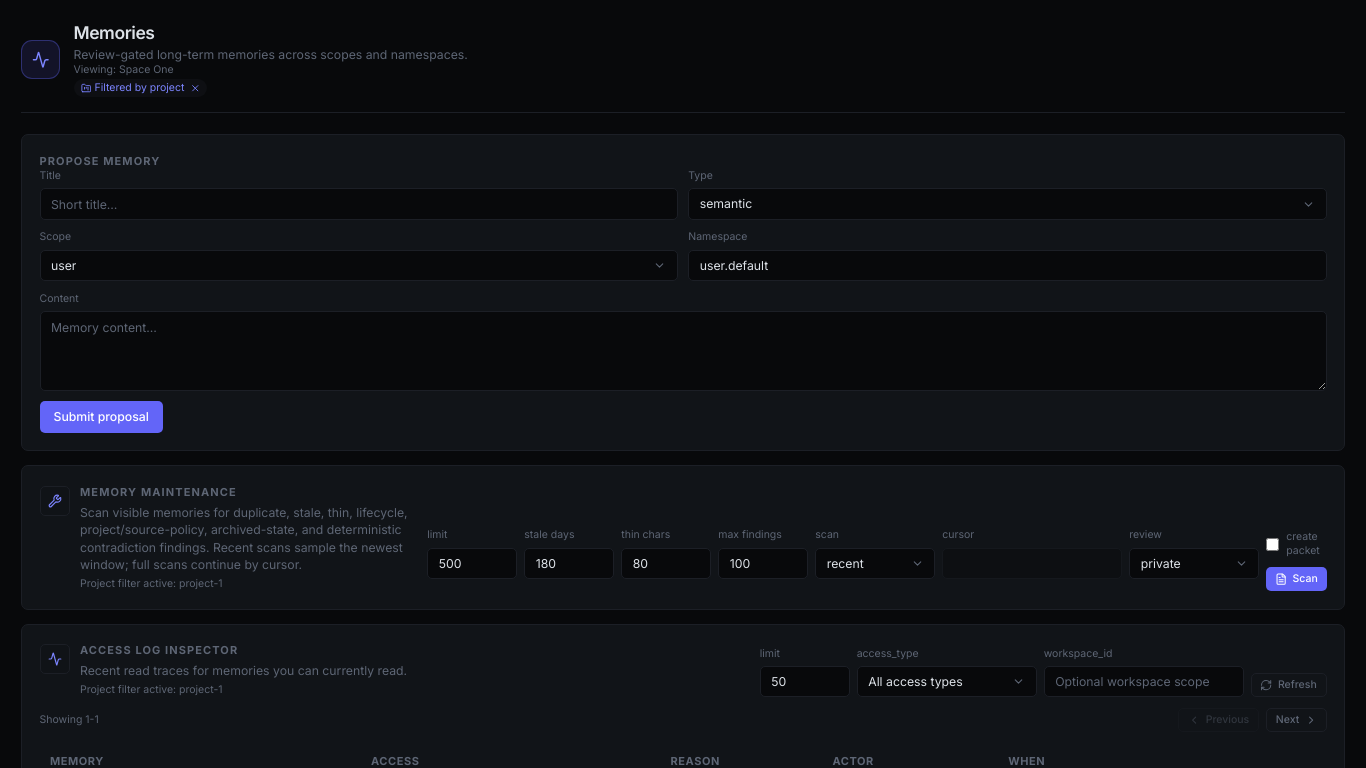
MemoriesPage maintenance and access-log UI › offset-paginates the access log inspector
Step 1. Click the button "Next" → x=1296, y=720, box [1266, 708, 1326, 732]
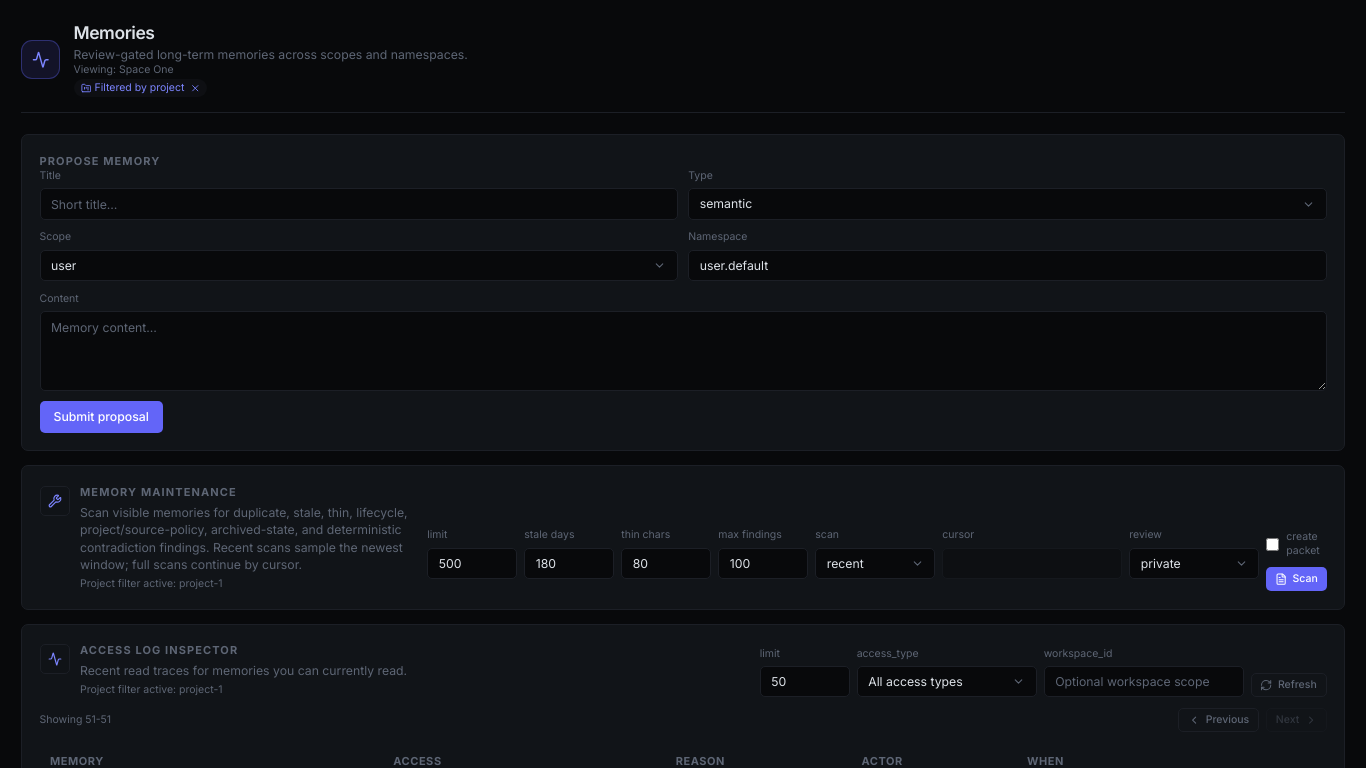
Result: the text "Showing 51-51" is shown at [40, 713, 111, 727]
